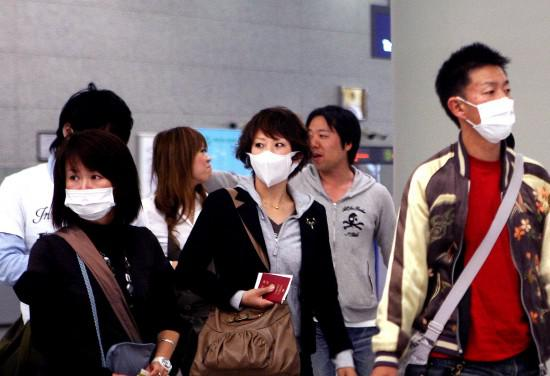NONE: (306, 130, 343, 171), (193, 150, 216, 181)
OK: (453, 77, 518, 142), (246, 131, 302, 187)
WRONG: (58, 163, 116, 221)
